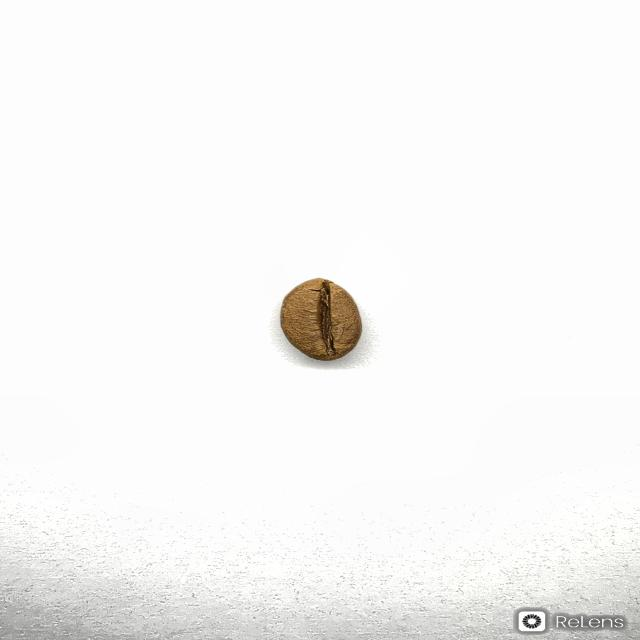Good bean: (279, 277, 363, 361)
